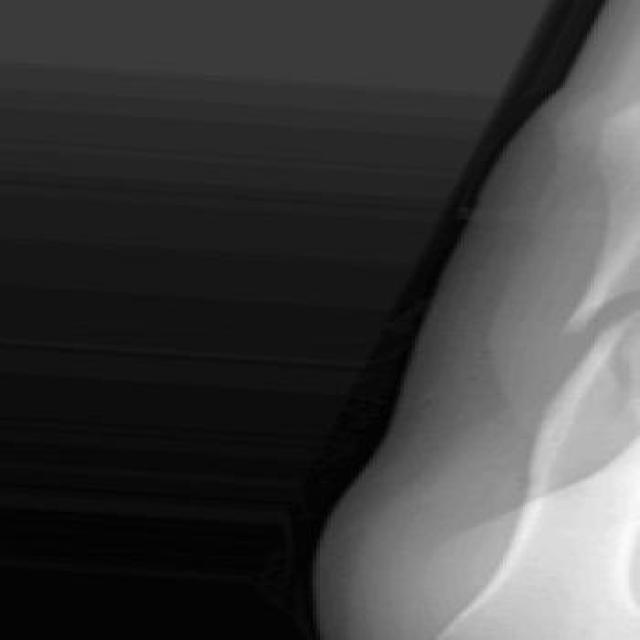Fracture: (545, 274, 640, 360)
